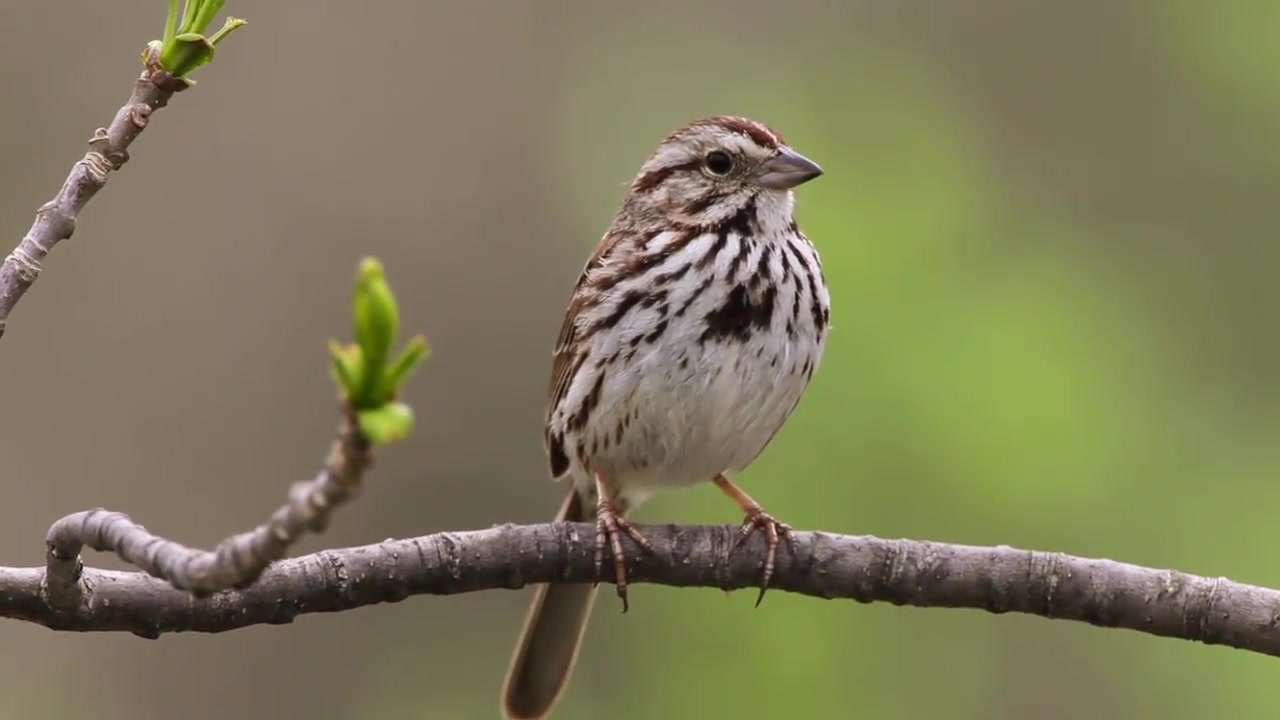bird: (500, 116, 834, 720)
